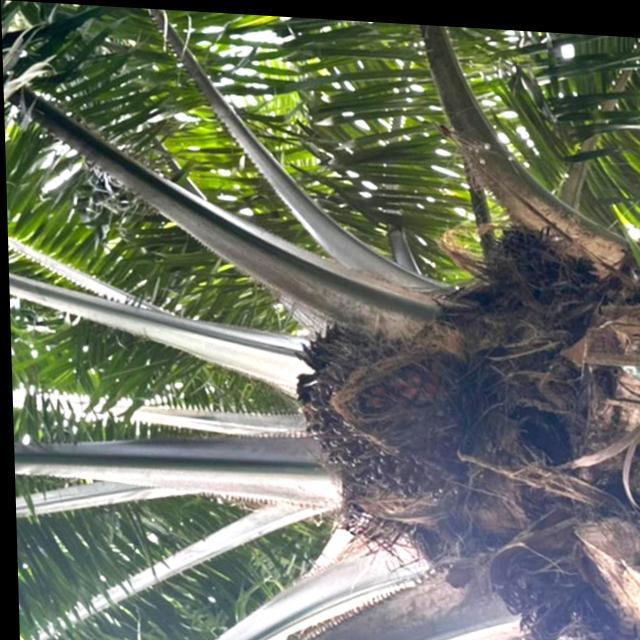ripe: (276, 310, 468, 502)
